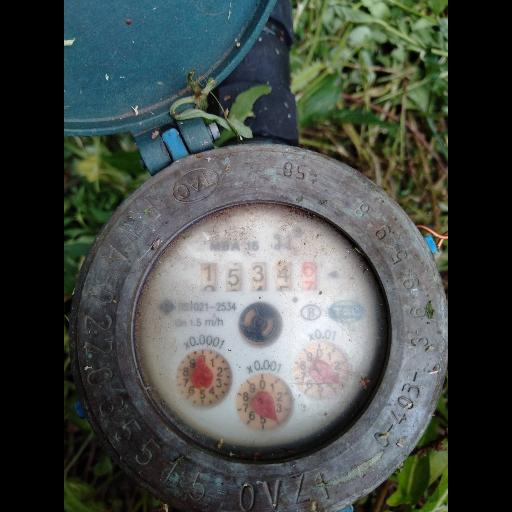1: (200, 263, 217, 292)
3: (251, 263, 267, 292)
4: (275, 261, 292, 291)
5: (225, 262, 243, 292)
6: (300, 262, 317, 291)
border_water_meter_number: (196, 259, 320, 295)
